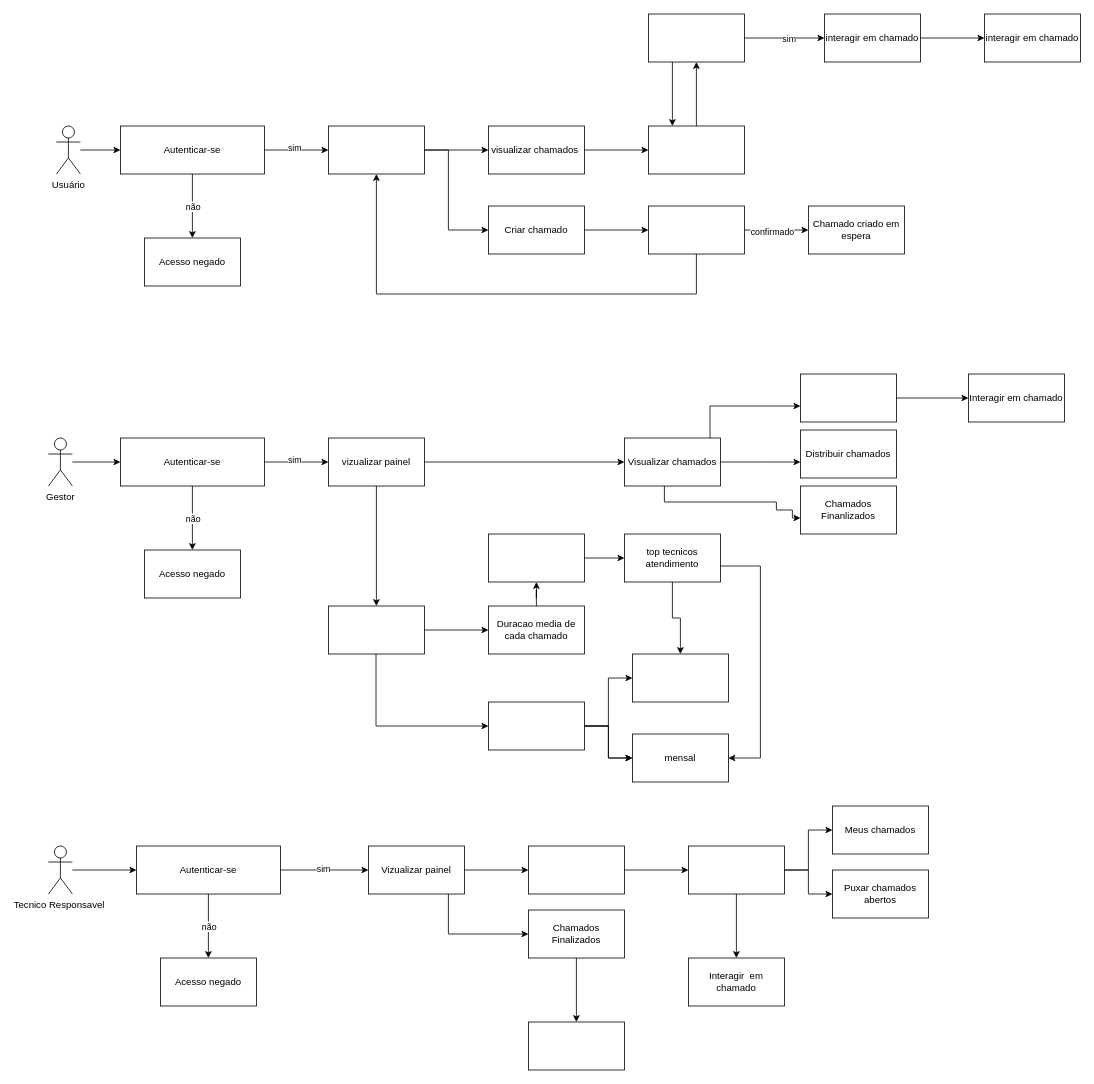
This 1094x1084 diagram has some shape labels left out. Here are the shapes that lost their labels. From the top down, the centre of each, then its label:
At pixel 696 37: "chamado aberto?".
At pixel 376 149: "visualizar painel".
At pixel 696 149: "Ver chamado".
At pixel 696 229: "descrição do chamado".
At pixel 848 397: "Abertos".
At pixel 536 557: "relaótrios".
At pixel 376 629: "Relatório e metricas".
At pixel 680 677: "semanal".
At pixel 536 725: "Numeros de chamados atendidos".
At pixel 576 869: "Vizualizar chamados".
At pixel 736 869: "Chamados pendentes".
At pixel 576 1045: "Informações do chamado".
